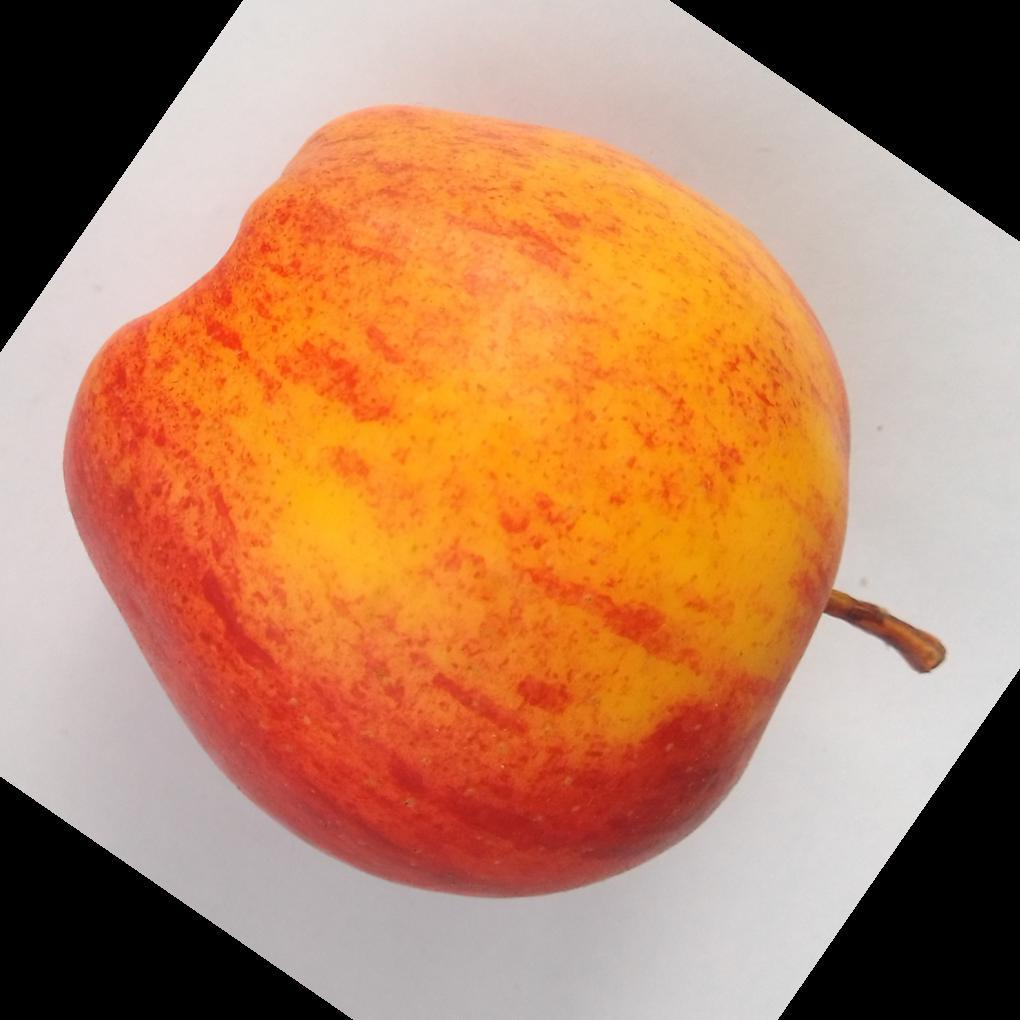FreshGuava: (60, 105, 903, 902)
